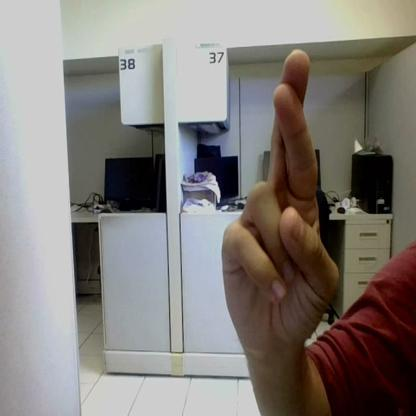R: (222, 49, 337, 333)
